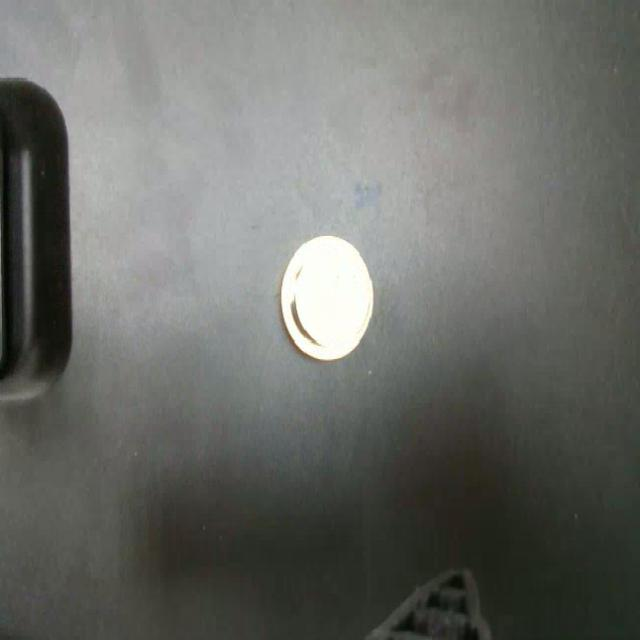sensor: (279, 233, 375, 361)
